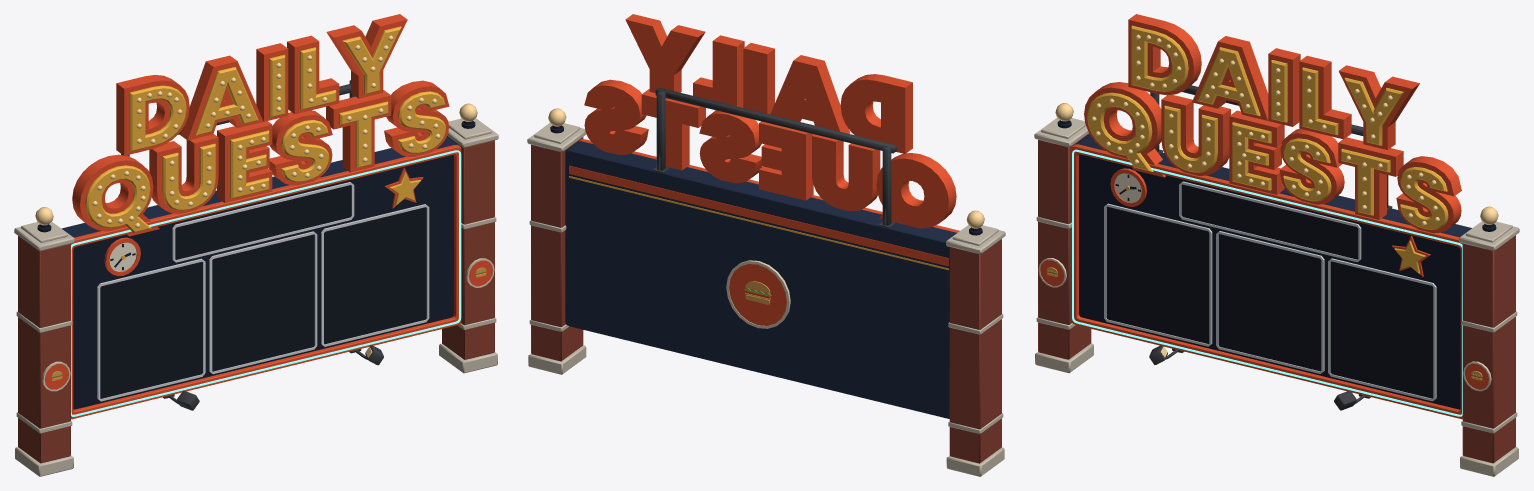
The model's file is Lobby_QuestBoard.fbx.
The picture shows the model from 3 angles, left to right: view 1: azimuth 30°, elevation 25°; view 2: azimuth 150°, elevation 25°; view 3: azimuth 330°, elevation 25°; orthographic projection.
Visible parts, largest first — view 1: LetterBodies, LetterFaces, Pillars, Panel, Card3, Card2, Card1, Frame, Bezels, Ticker, Stone, FrameNeon (+7 smaller); view 2: Cabinet, LetterBodies, Pillars, BrandTrim, Stone, Steel, MustardTrim, Badge1, Globes; view 3: LetterBodies, LetterFaces, Pillars, Panel, Card2, Card1, Card3, Frame, Bezels, Ticker, Stone, FrameNeon (+8 smaller).
Part boxes in pixels (x1=…): LetterBodies: x1=72, y1=14, x2=449, y2=236; LetterFaces: x1=85, y1=26, x2=445, y2=232; Pillars: x1=18, y1=136, x2=494, y2=463; Panel: x1=73, y1=155, x2=453, y2=409; Card3: x1=324, y1=207, x2=426, y2=344; Card2: x1=212, y1=234, x2=314, y2=371; Card1: x1=100, y1=262, x2=202, y2=398; Frame: x1=71, y1=144, x2=461, y2=419; Bezels: x1=97, y1=182, x2=429, y2=401; Ticker: x1=175, y1=185, x2=351, y2=259; Stone: x1=14, y1=118, x2=498, y2=476; FrameNeon: x1=71, y1=150, x2=461, y2=416; Cabinet: x1=565, y1=141, x2=956, y2=418; LetterBodies: x1=584, y1=14, x2=956, y2=228; Pillars: x1=531, y1=137, x2=1001, y2=463; BrandTrim: x1=569, y1=165, x2=948, y2=325; Stone: x1=527, y1=123, x2=1005, y2=476; Steel: x1=652, y1=87, x2=896, y2=228; MustardTrim: x1=569, y1=176, x2=948, y2=300; Badge1: x1=726, y1=260, x2=790, y2=328; Globes: x1=548, y1=108, x2=984, y2=228; LetterBodies: x1=1084, y1=14, x2=1461, y2=233; LetterFaces: x1=1087, y1=25, x2=1448, y2=229; Pillars: x1=1038, y1=133, x2=1515, y2=463; Panel: x1=1079, y1=154, x2=1460, y2=409; Card2: x1=1218, y1=234, x2=1321, y2=371; Card1: x1=1106, y1=206, x2=1209, y2=343; Card3: x1=1330, y1=261, x2=1433, y2=398; Frame: x1=1072, y1=144, x2=1462, y2=419; Bezels: x1=1104, y1=181, x2=1436, y2=401; Ticker: x1=1181, y1=184, x2=1358, y2=259; Stone: x1=1034, y1=117, x2=1519, y2=476; FrameNeon: x1=1072, y1=149, x2=1462, y2=416.
Size of the model in its own units: 4690 by 3542 by 759.
